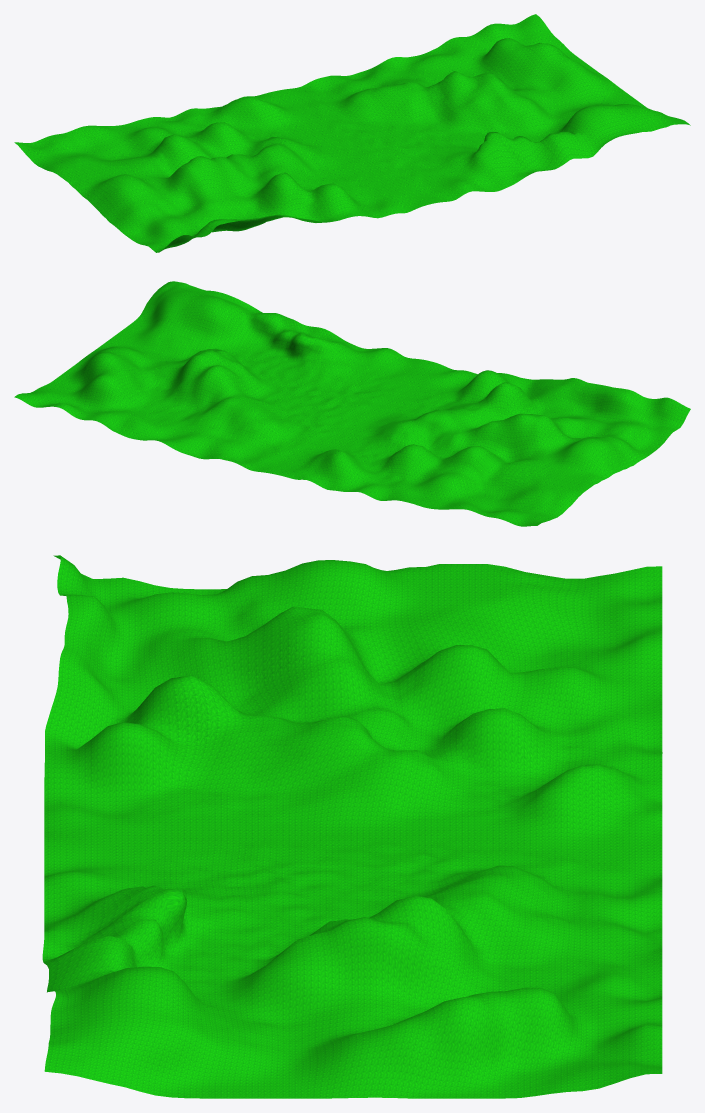
Rendered from AITerrain_01_PLAINS.obj.
3 views of the same model, one above another, from view 1: azimuth 30°, elevation 25°; view 2: azimuth 150°, elevation 25°; view 3: azimuth 270°, elevation 25° (orthographic). The views are drawn at different scales.
Parts seen in each view (by area): view 1: AITerrain_01_PLAINS; view 2: AITerrain_01_PLAINS; view 3: AITerrain_01_PLAINS.
Boxes of the visible parts, x1,y1,x2,y2 form: AITerrain_01_PLAINS: (14,14,690,252); AITerrain_01_PLAINS: (14,281,690,526); AITerrain_01_PLAINS: (42,555,662,1098).
Size of the model in its own units: 1965 by 143 by 1003.
Materials: 1 (1 with a texture image).
